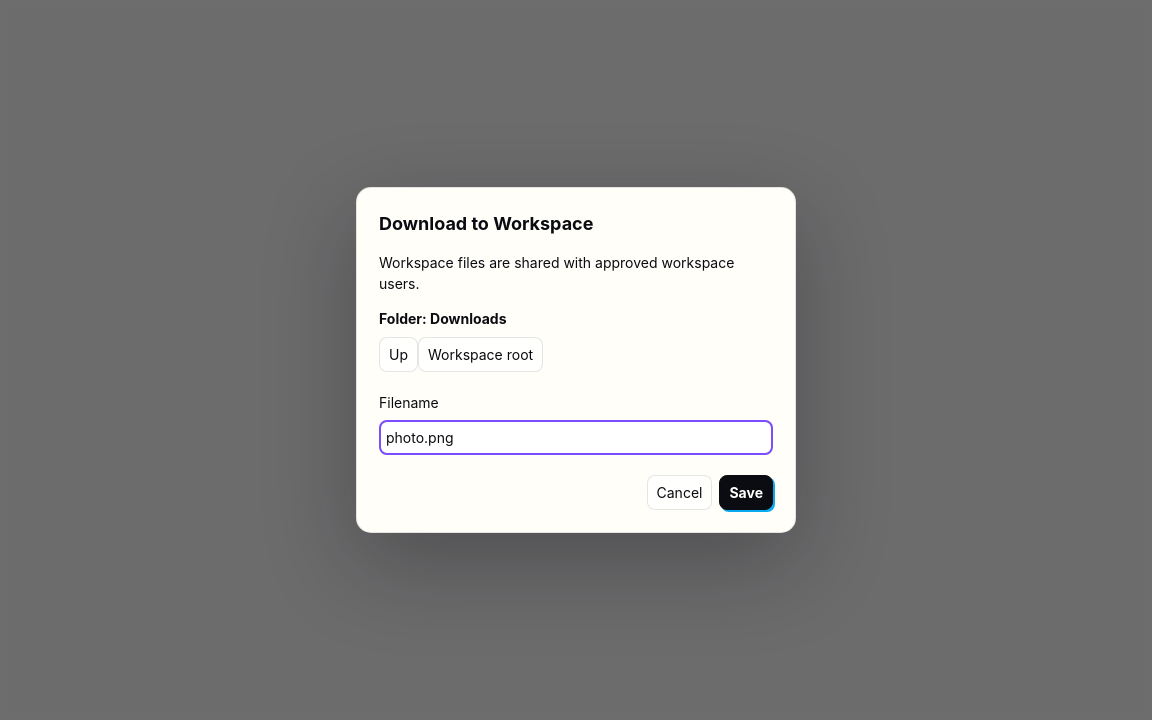
workspace save dialog › prevents duplicate saves and disables replacement of the source file
This screenshot has width=1152, height=720.
What coordinates should you click on to do the following:
click the button "Save"
I would click on:
 (746, 492)
Its box is [720,475,773,510].
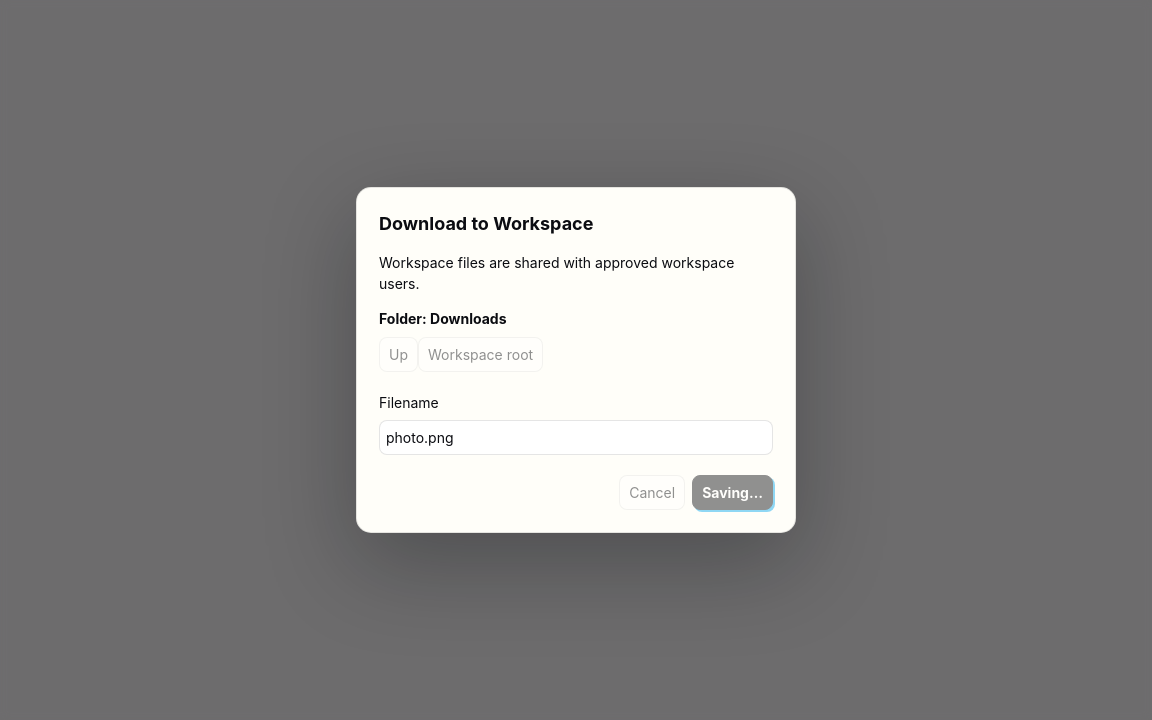
What coordinates should you click on to do the following:
click the button named "Save"
I would click on:
 (733, 492)
Its box is [692,475,773,510].
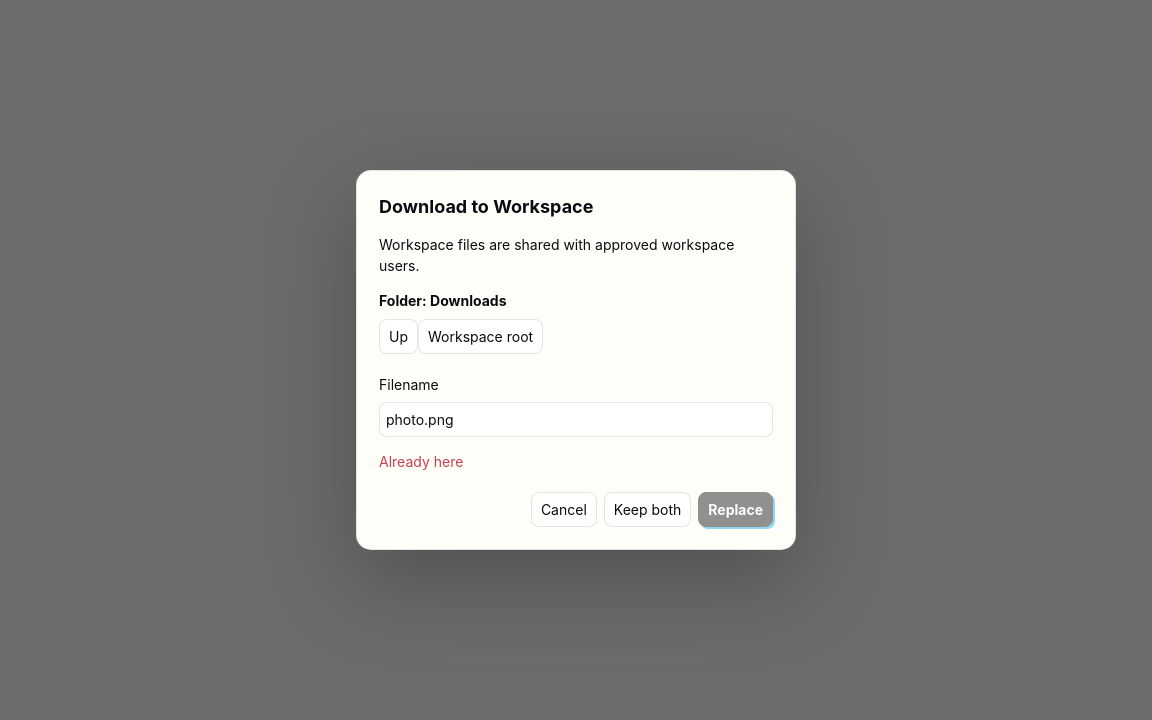
Expected: the button "Replace" is disabled, [698,492,773,528]
Expected: the button "Keep both" is enabled, [604,492,691,528]
